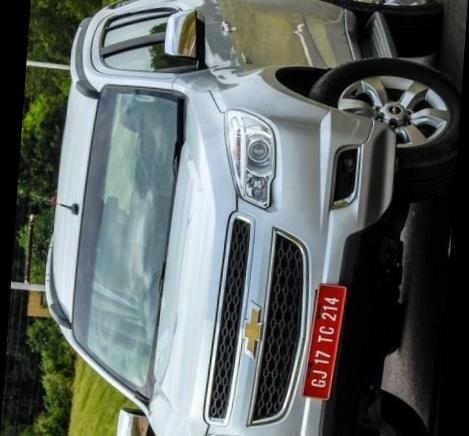plate: (294, 261, 359, 411)
